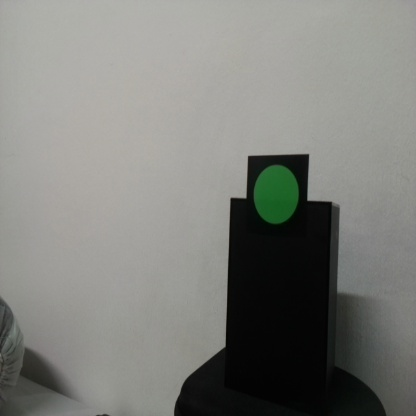id_5: (247, 156, 308, 244)
